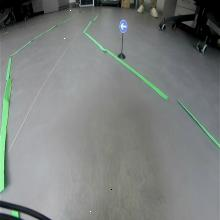left: (118, 18, 128, 32)
